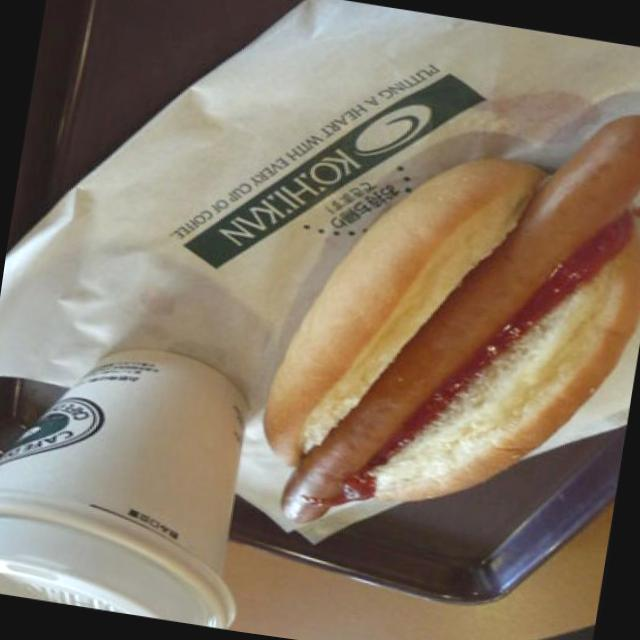Hot Dog: (241, 51, 640, 568)
